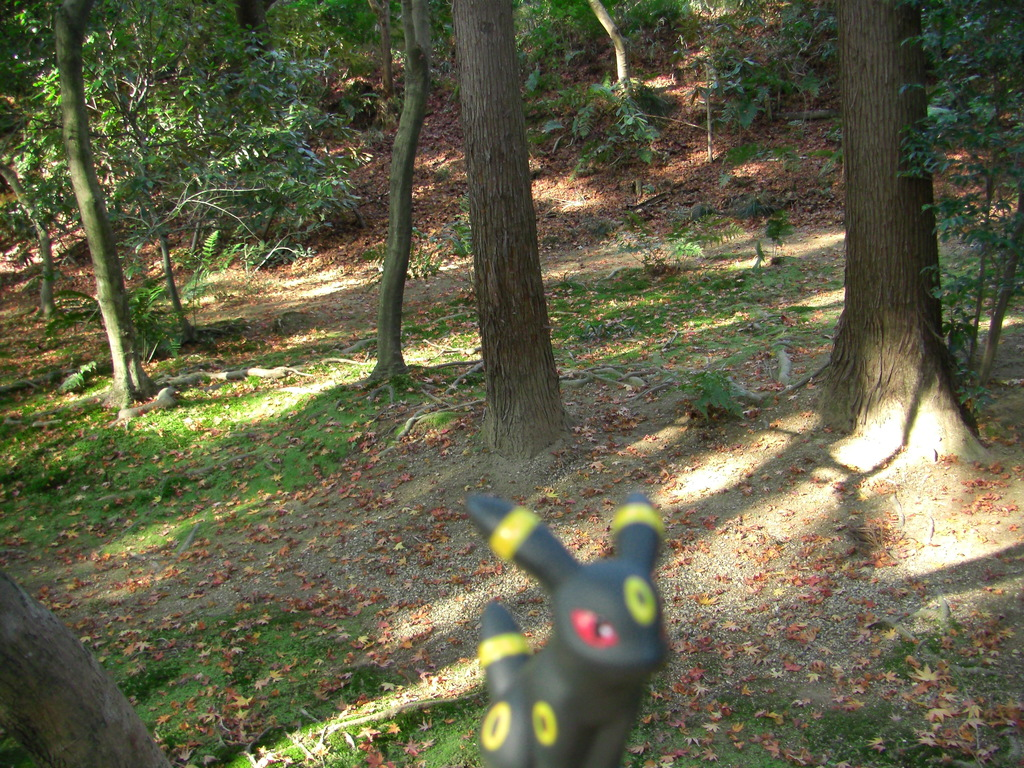Tree: (0, 0, 1023, 415), (817, 0, 995, 455), (450, 0, 567, 457), (0, 567, 171, 767)
